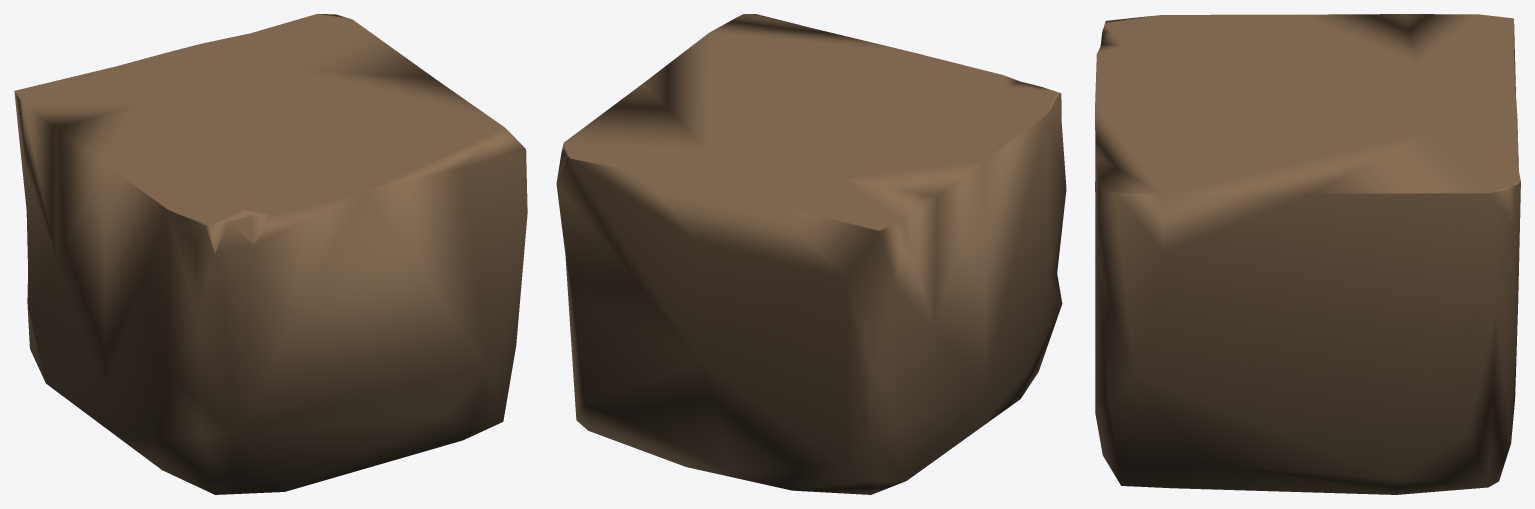
Rendered from TileBotFlat.fbx.
3 renders of one model, left to right at view 1: azimuth 30°, elevation 25°; view 2: azimuth 150°, elevation 25°; view 3: azimuth 270°, elevation 25°, orthographic. The views are drawn at different scales.
Visible parts, largest first — view 1: TileBotFlat; view 2: TileBotFlat; view 3: TileBotFlat.
Boxes of the visible parts, x1=… form: TileBotFlat: x1=14, y1=14, x2=527, y2=494; TileBotFlat: x1=556, y1=14, x2=1066, y2=494; TileBotFlat: x1=1095, y1=14, x2=1520, y2=494.
Bounding box in the file's own units: 222 × 181 × 220.
